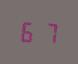seven: (38, 19, 56, 44)
six: (19, 18, 37, 43)
